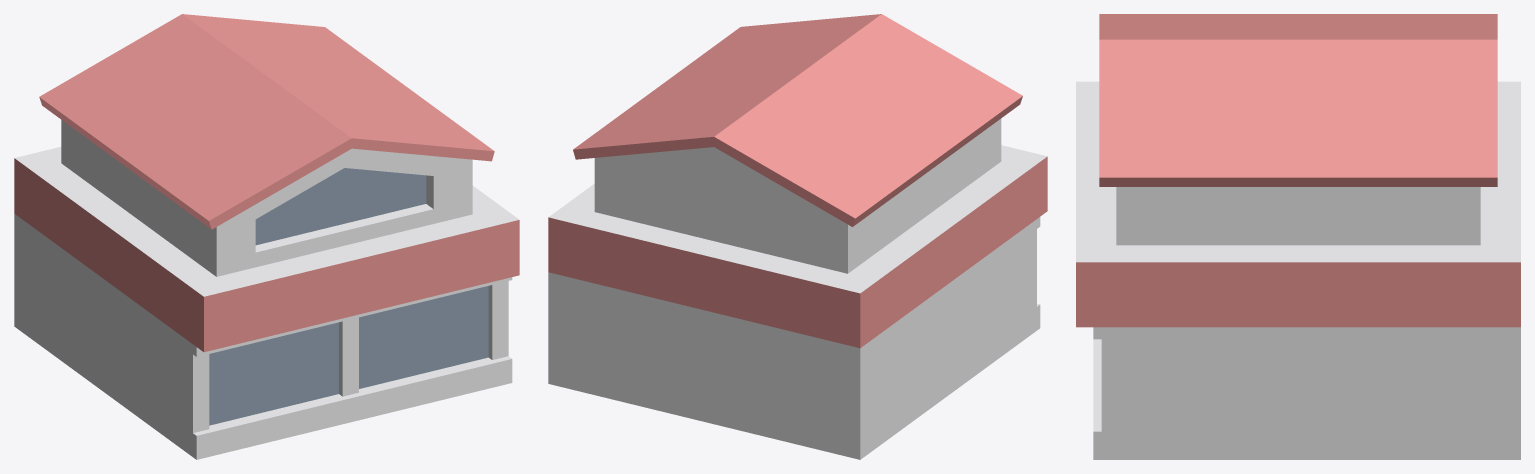
The model's file is Pits Office Roof.glb.
3 views of the same model, side by side, from view 1: azimuth 30°, elevation 25°; view 2: azimuth 150°, elevation 25°; view 3: azimuth 270°, elevation 25° (orthographic). The views are drawn at different scales.
Visible parts, largest first — view 1: pitsOfficeRoof(Clone); view 2: pitsOfficeRoof(Clone); view 3: pitsOfficeRoof(Clone).
Part boxes in pixels (x1,y1,x2,y2): pitsOfficeRoof(Clone): (14,14,519,459); pitsOfficeRoof(Clone): (548,14,1047,459); pitsOfficeRoof(Clone): (1076,14,1520,459).
Size of the model in its own units: 1 by 0.8515 by 1.04.
